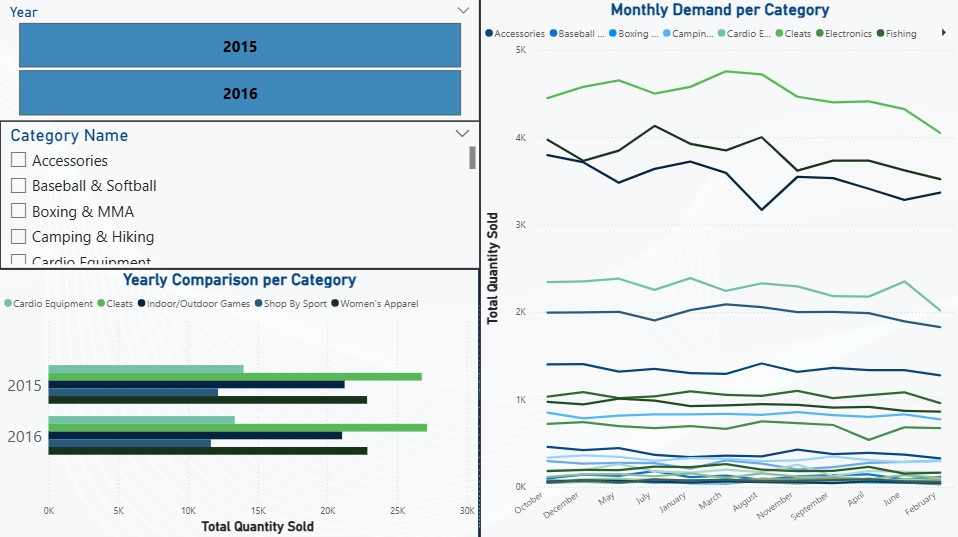

This screenshot's page, from the dashboard's own definition file:
{"tool":"powerbi","page":{"name":"Demand Trend","canvas":[1280,720],"ordinal":2},"visuals":[{"type":"lineChart","title":"Monthly Demand per Category","fields":{"Category":["DataCoSupplyChainDataset.Month Name"],"Y":["DataCoSupplyChainDataset.Total Quantity Sold"],"Series":["DataCoSupplyChainDataset.Category Name"]},"box":[641.4,0,638.6,720],"z":0},{"type":"clusteredBarChart","title":"Yearly Comparison per Category","fields":{"Category":["DataCoSupplyChainDataset.Year"],"Y":["DataCoSupplyChainDataset.Total Quantity Sold"],"Series":["DataCoSupplyChainDataset.Category Name"]},"box":[0,360,640,360],"z":1000},{"type":"slicer","fields":{"Values":["DataCoSupplyChainDataset.Category Name"]},"box":[1.4,162.9,640,197.1],"z":2000},{"type":"slicer","fields":{"Values":["DataCoSupplyChainDataset.Year"]},"box":[0,0,641.4,162.9],"z":3000}]}

Visuals, with their boxes in screenshot pixels (x1, y1, x2, y2), scaled from the page's 1280x720 canvas onto the 958x537 screenshot:
"Monthly Demand per Category" lineChart: BBox(480, 0, 957, 536)
"Yearly Comparison per Category" clusteredBarChart: BBox(0, 268, 479, 536)
slicer - DataCoSupplyChainDataset.Category Name: BBox(1, 121, 480, 268)
slicer - DataCoSupplyChainDataset.Year: BBox(0, 0, 480, 121)
